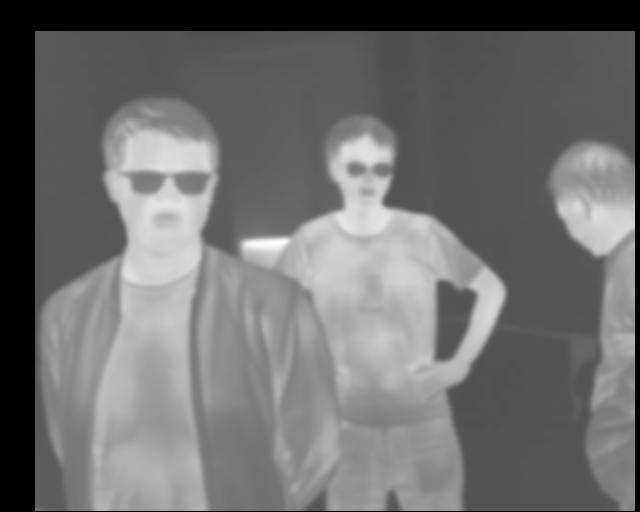face: (102, 94, 219, 256), (323, 113, 398, 208)
